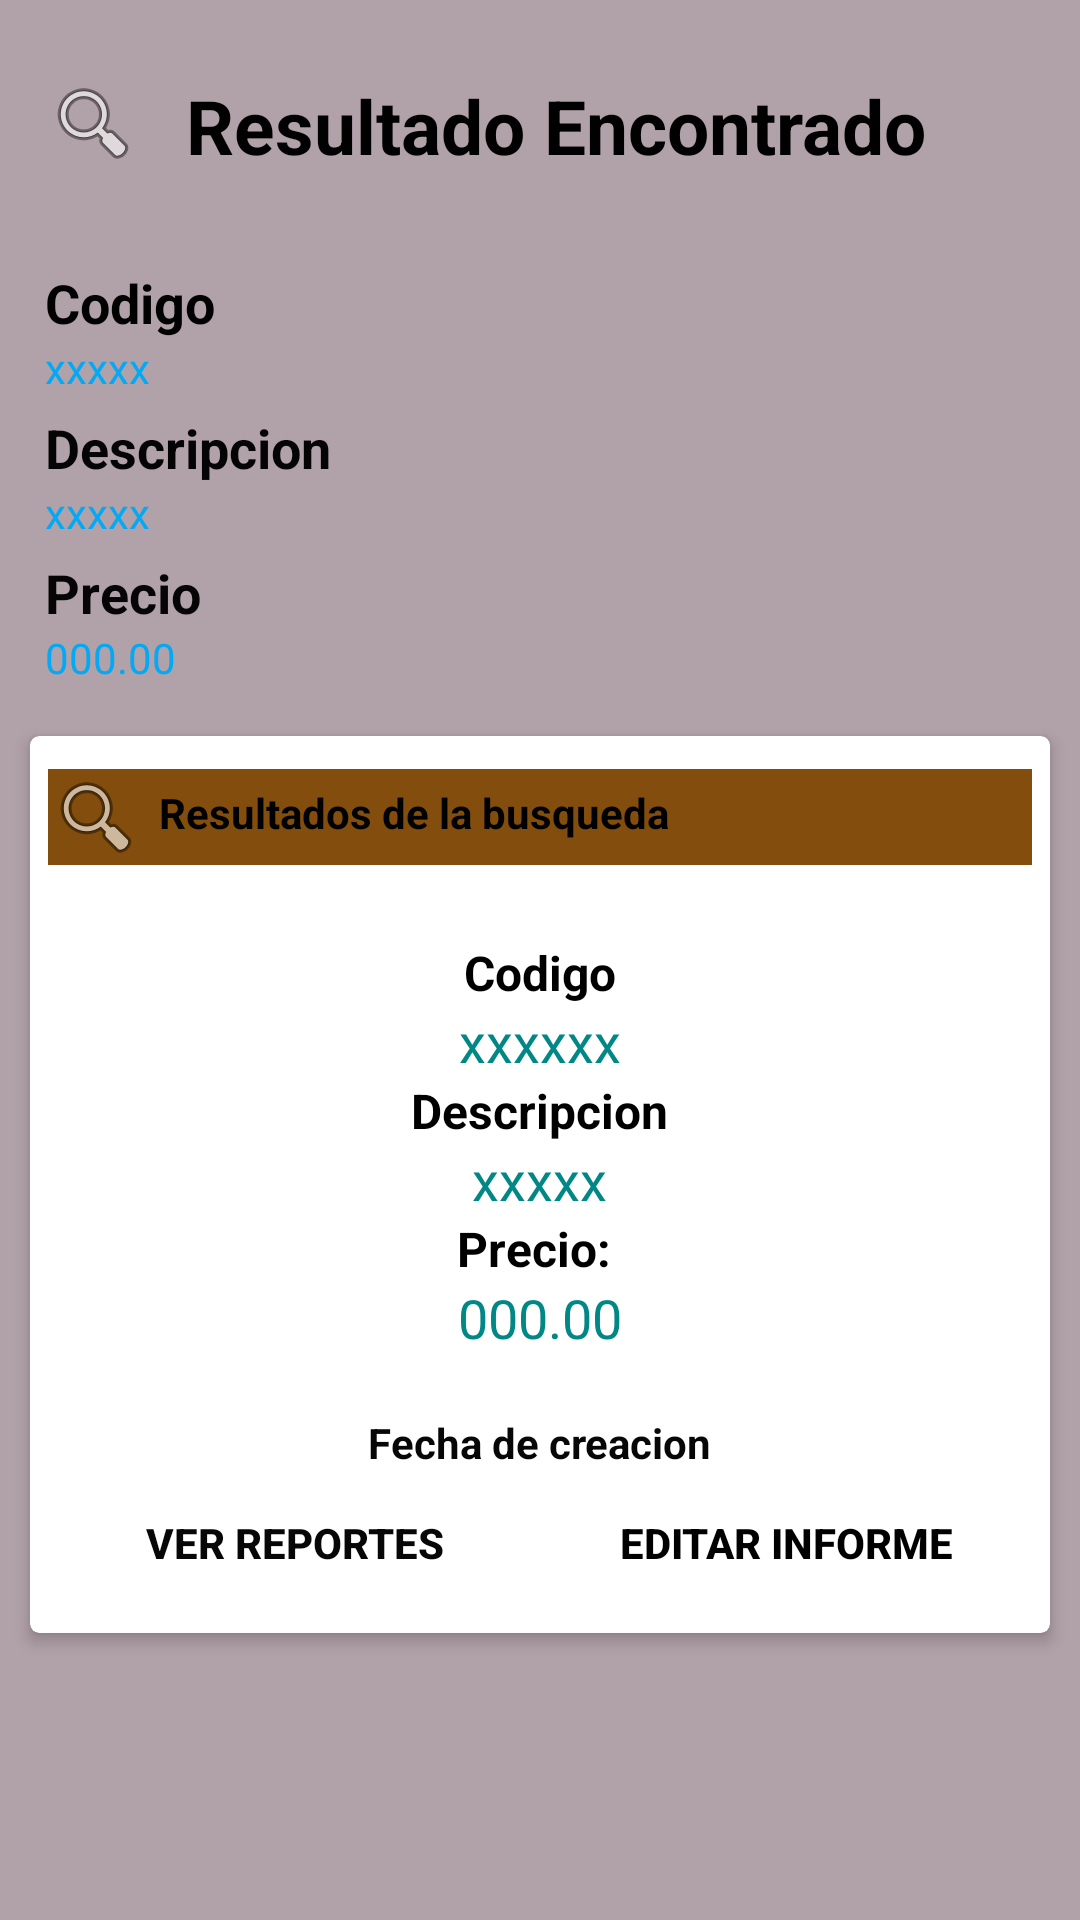

Icon bounding boxes for this 1080px x 1920px phone screenshot, format (x1, y1, x2, y2):
search: (58, 88, 128, 159), (48, 769, 144, 865)
